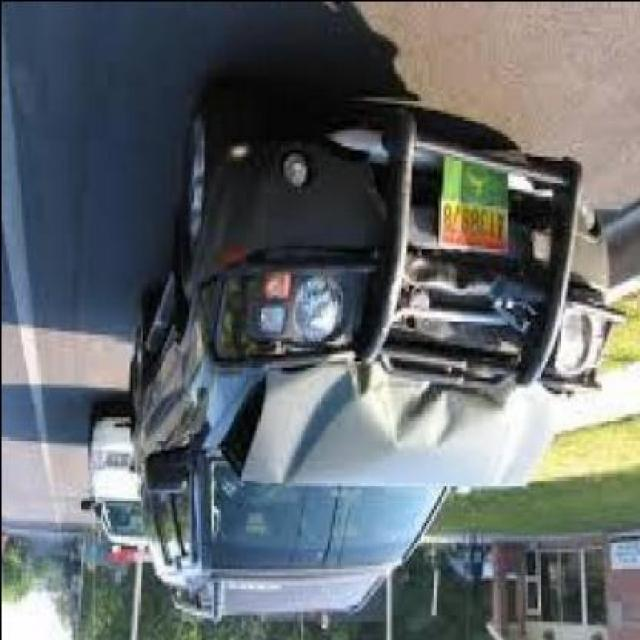damage: (215, 349, 571, 491), (382, 225, 550, 360)
